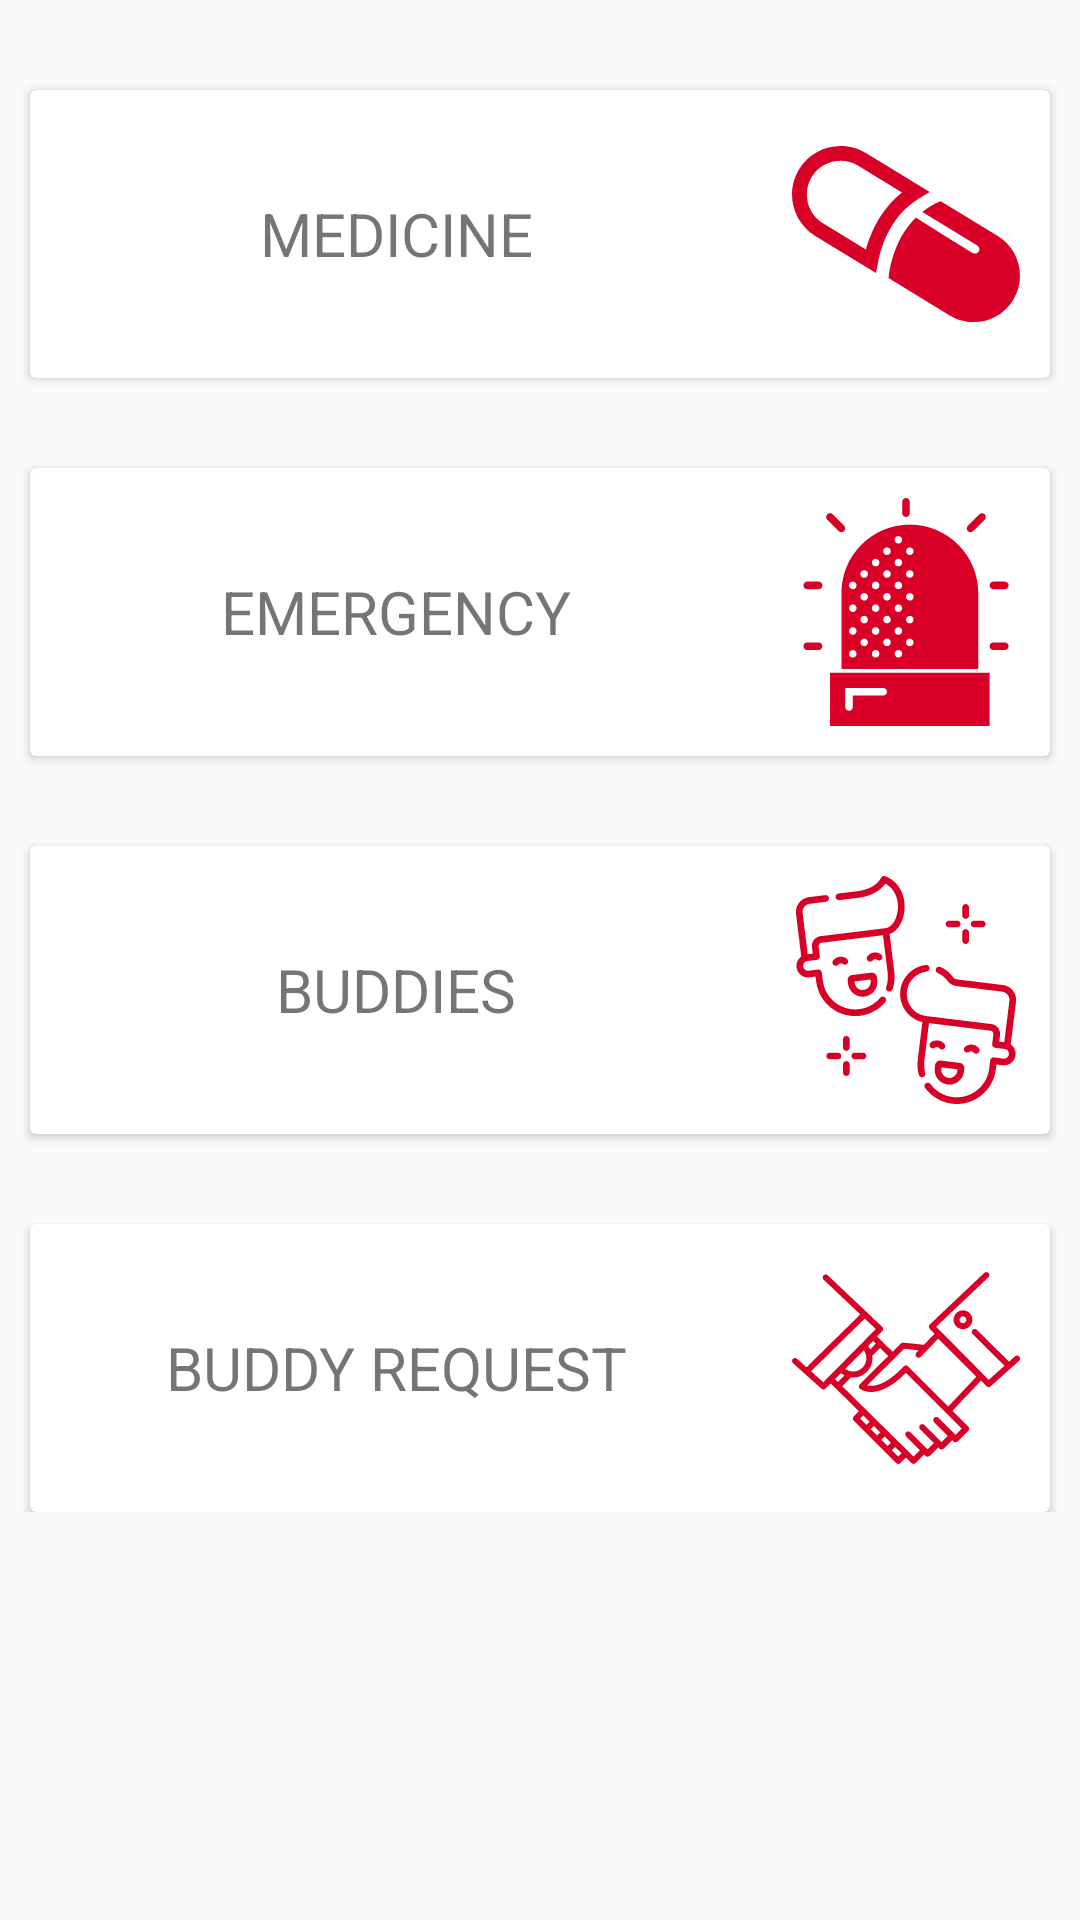

Icon bounding boxes for this 1080px x 1920px phone screenshot, format (x1, y1, x2, y2):
friends: (796, 876, 1016, 1104)
